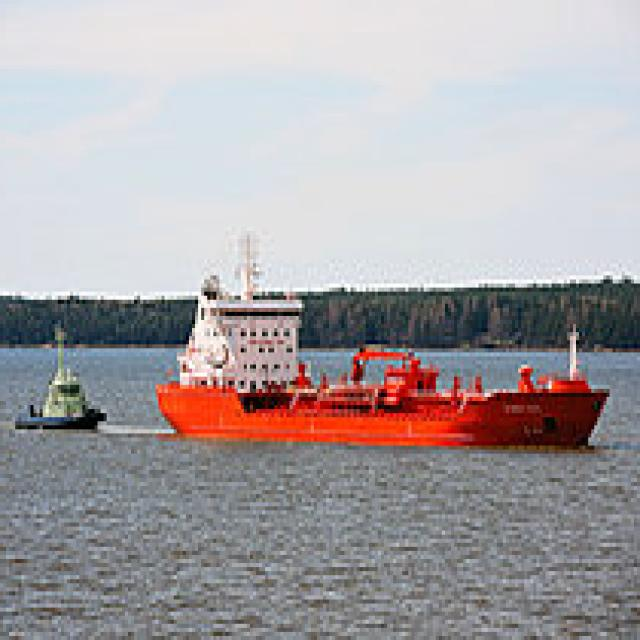Tanker: (155, 218, 616, 446)
